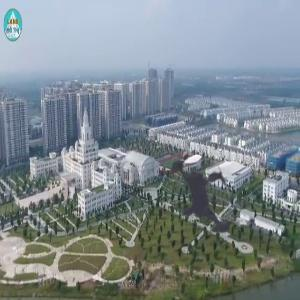drone: (125, 115, 280, 270)
